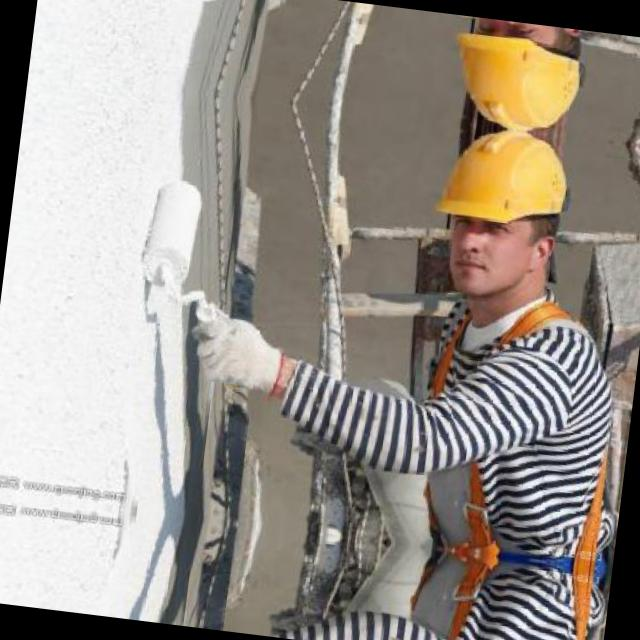helmet: (414, 118, 598, 326), (436, 14, 612, 140)
